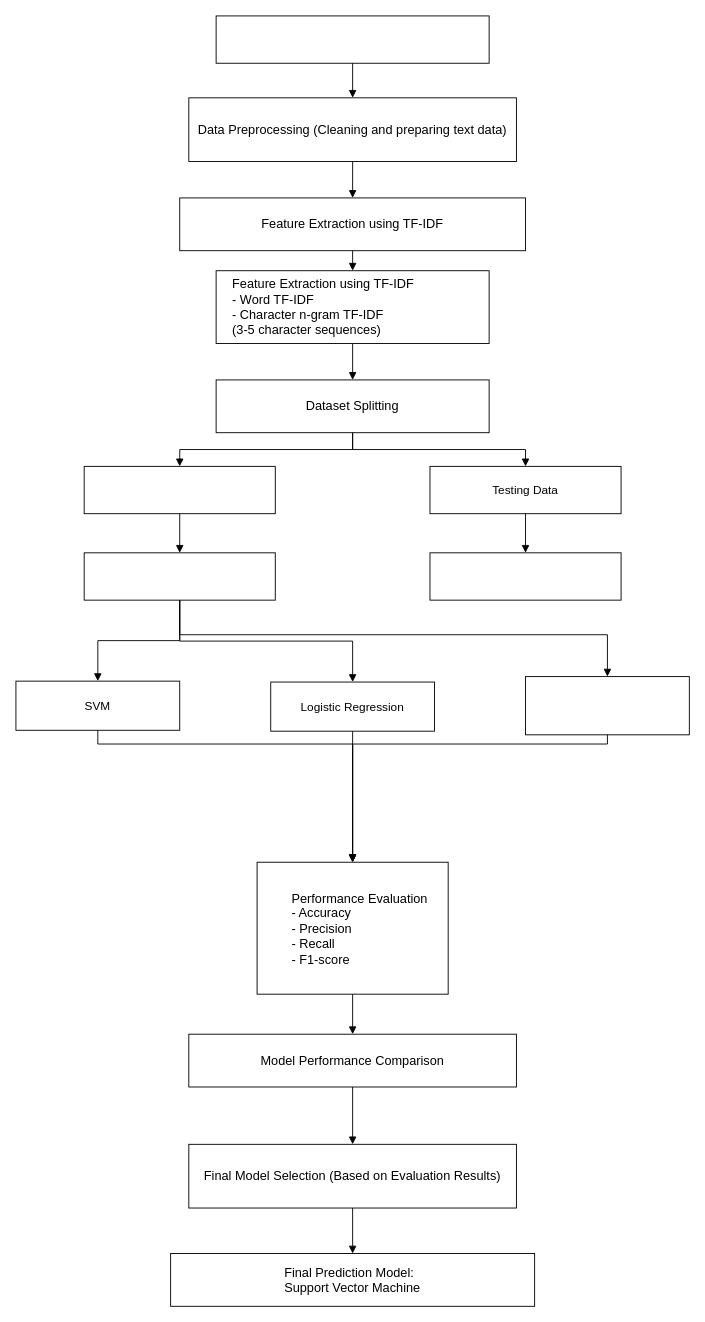
This 705x1322 diagram has some shape labels left out. The centre of each missing label's shape, as x and y in pixels:
"BBC News Dataset" belongs at (352,39).
"Complement Naive Bayes" belongs at (607,705).
"Model Testing" belongs at (525,576).
"Model Training" belongs at (179,576).
"Training Data" belongs at (179,489).
